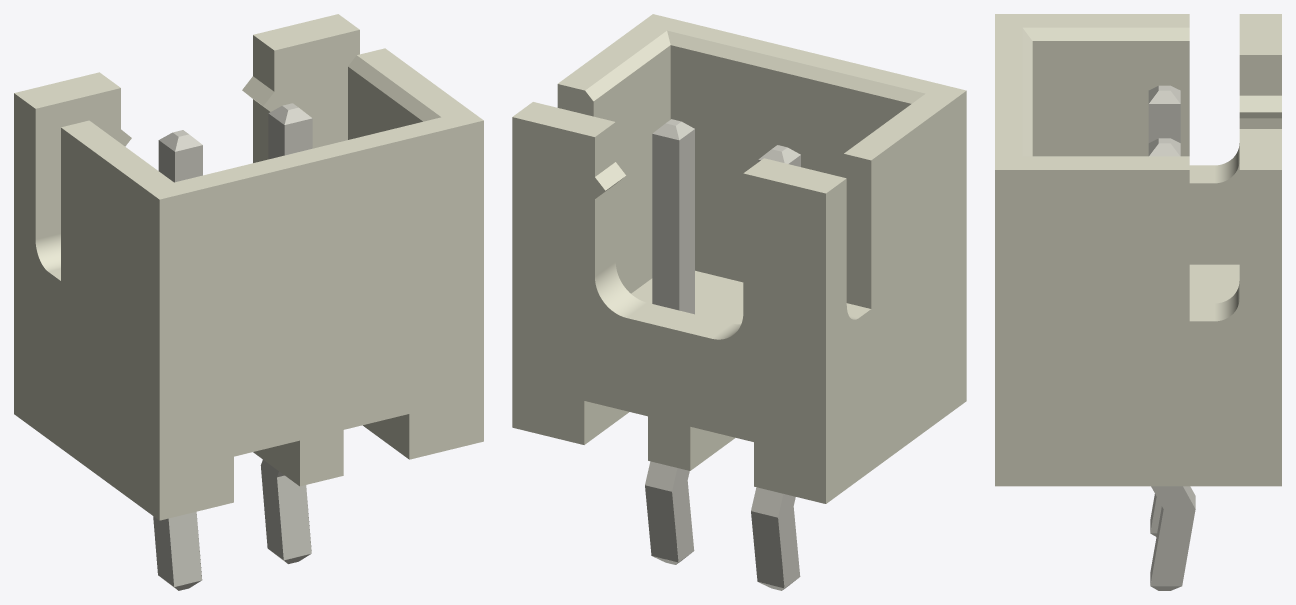
Rendered from jst_xh_b2b_xh_a_1x02_p2_50mm_vertical.glb.
3 renders of one model, left to right at view 1: azimuth 30°, elevation 25°; view 2: azimuth 150°, elevation 25°; view 3: azimuth 270°, elevation 25°, orthographic. The views are drawn at different scales.
Visible parts, largest first — view 1: conn_jst_xh_2p, pin_2, pin_1; view 2: conn_jst_xh_2p, pin_1, pin_2; view 3: conn_jst_xh_2p, pin_2.
Boxes of the visible parts, x1,y1,x2,y2 form: conn_jst_xh_2p: (14, 14, 483, 520); pin_2: (260, 460, 311, 564); pin_1: (153, 511, 202, 590); conn_jst_xh_2p: (512, 14, 966, 503); pin_1: (751, 487, 800, 590); pin_2: (645, 461, 694, 564); conn_jst_xh_2p: (995, 14, 1281, 486); pin_2: (1150, 486, 1195, 590).
Bounding box in the file's own units: 0.0074 × 0.0104 × 0.00575.
